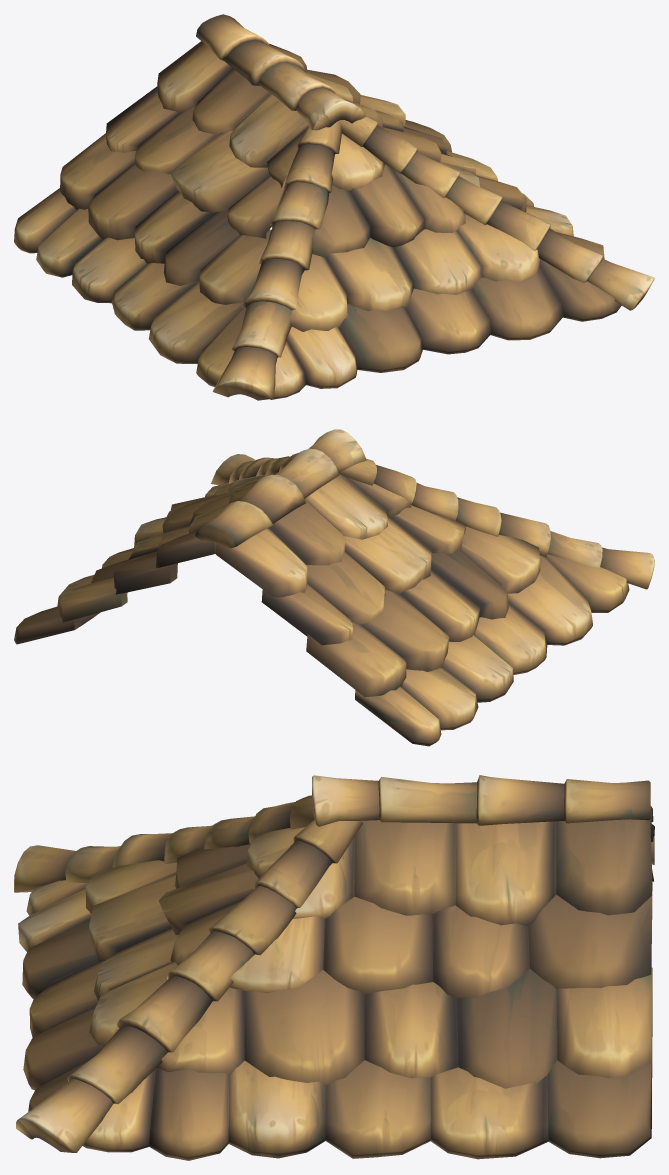
File: SM_MOD_roof_cap_end_bricks_town.fbx
3 views of the same model, one above another, from view 1: azimuth 30°, elevation 25°; view 2: azimuth 150°, elevation 25°; view 3: azimuth 270°, elevation 25° (orthographic). The views are drawn at different scales.
Visible parts, largest first — view 1: SM_MOD_roof_cap_end_bricks_town_LOD0; view 2: SM_MOD_roof_cap_end_bricks_town_LOD0; view 3: SM_MOD_roof_cap_end_bricks_town_LOD0.
Part boxes in pixels (left/top/right/bottom): SM_MOD_roof_cap_end_bricks_town_LOD0: left=14, top=14, right=654, bottom=400; SM_MOD_roof_cap_end_bricks_town_LOD0: left=14, top=429, right=654, bottom=746; SM_MOD_roof_cap_end_bricks_town_LOD0: left=14, top=775, right=654, bottom=1160.
Size of what is drawn, in the model's own units: 458 by 182 by 433.
